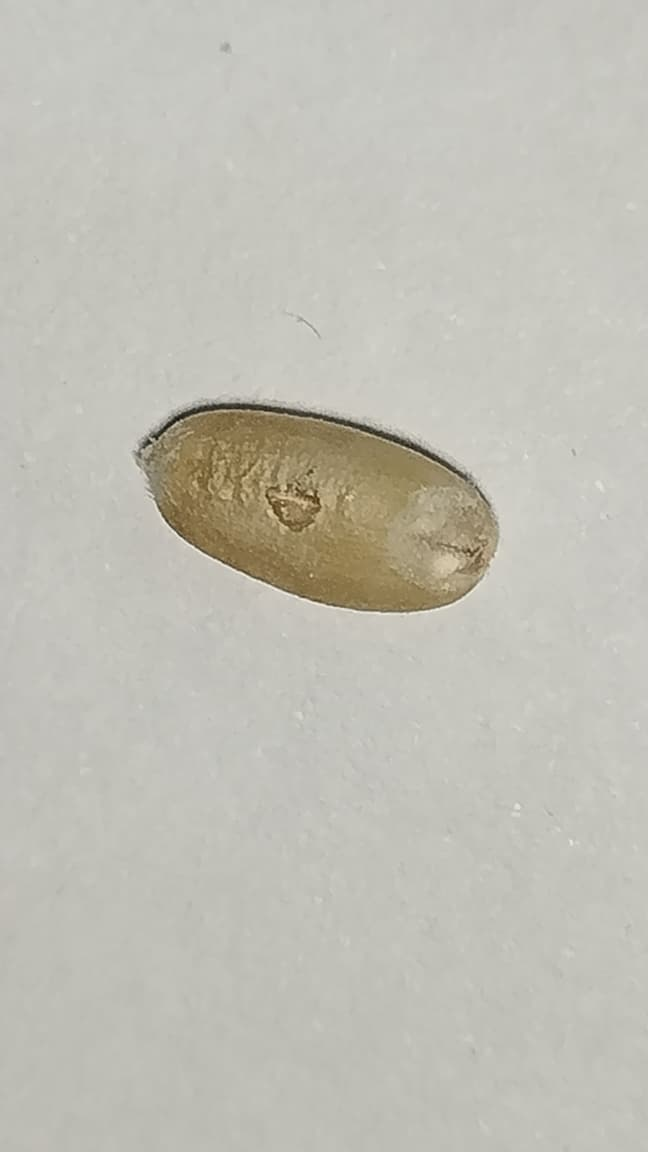damage: (137, 402, 499, 615)
insectdamage: (383, 476, 499, 602), (212, 451, 342, 540)
